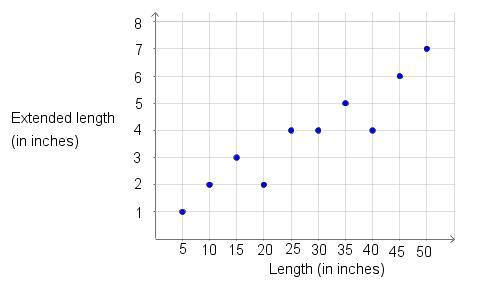axis: (152, 235, 459, 244), (151, 11, 160, 241)
point: (177, 207, 189, 216), (258, 181, 270, 190), (205, 180, 215, 190), (231, 153, 241, 162), (341, 98, 351, 107), (395, 71, 405, 80), (422, 44, 432, 53), (313, 126, 322, 135), (368, 126, 377, 135), (287, 125, 295, 135)
